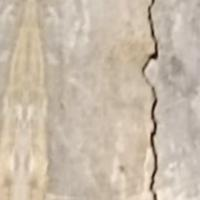crack: (118, 0, 171, 199)
